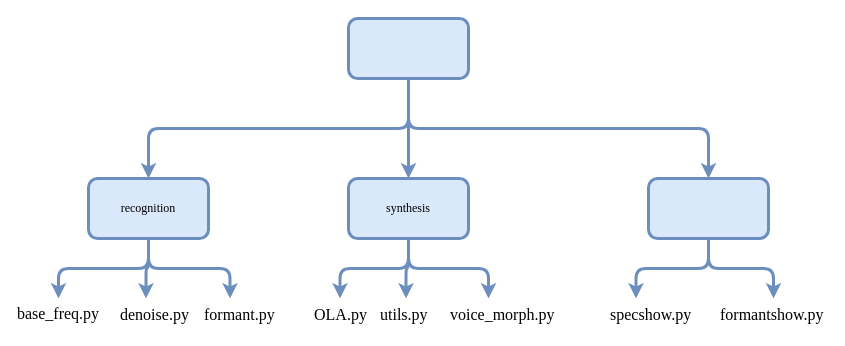
The diagram is 845 pixels wide and 346 high, and some of its shapes have lost their labels. The centre of each missing label's shape, as x and y in pixels:
project:voice_trans: [408,48]
visualize: [708,208]
